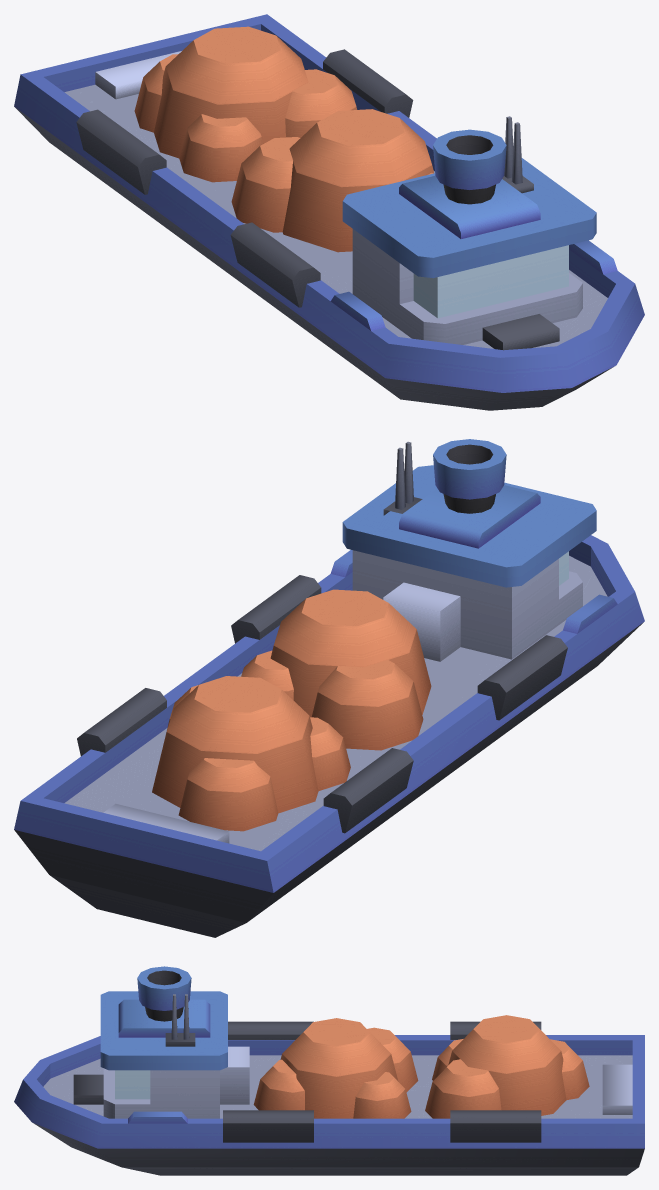
File: ship_cargo_b.glb
3 renders of one model, top to bottom at view 1: azimuth 30°, elevation 25°; view 2: azimuth 150°, elevation 25°; view 3: azimuth 270°, elevation 25°, orthographic. The views are drawn at different scales.
Parts seen in each view (by area): view 1: ship-cargo-b, cargo-b, cargo-a; view 2: ship-cargo-b, cargo-b, cargo-a; view 3: ship-cargo-b, cargo-a, cargo-b.
Boxes of the visible parts, x1,y1,x2,y2 form: ship-cargo-b: (14, 14, 644, 410); cargo-b: (134, 26, 357, 182); cargo-a: (231, 109, 433, 252); ship-cargo-b: (14, 439, 644, 937); cargo-b: (152, 676, 350, 831); cargo-a: (241, 589, 431, 750); ship-cargo-b: (14, 966, 644, 1175); cargo-a: (253, 1018, 418, 1118); cargo-b: (425, 1015, 589, 1118).
Bounding box in the file's own units: 3.92 × 3.3 × 10.55.
1 material, 1 textured.
